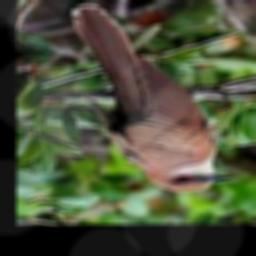Cuckoo: (72, 5, 233, 192)
